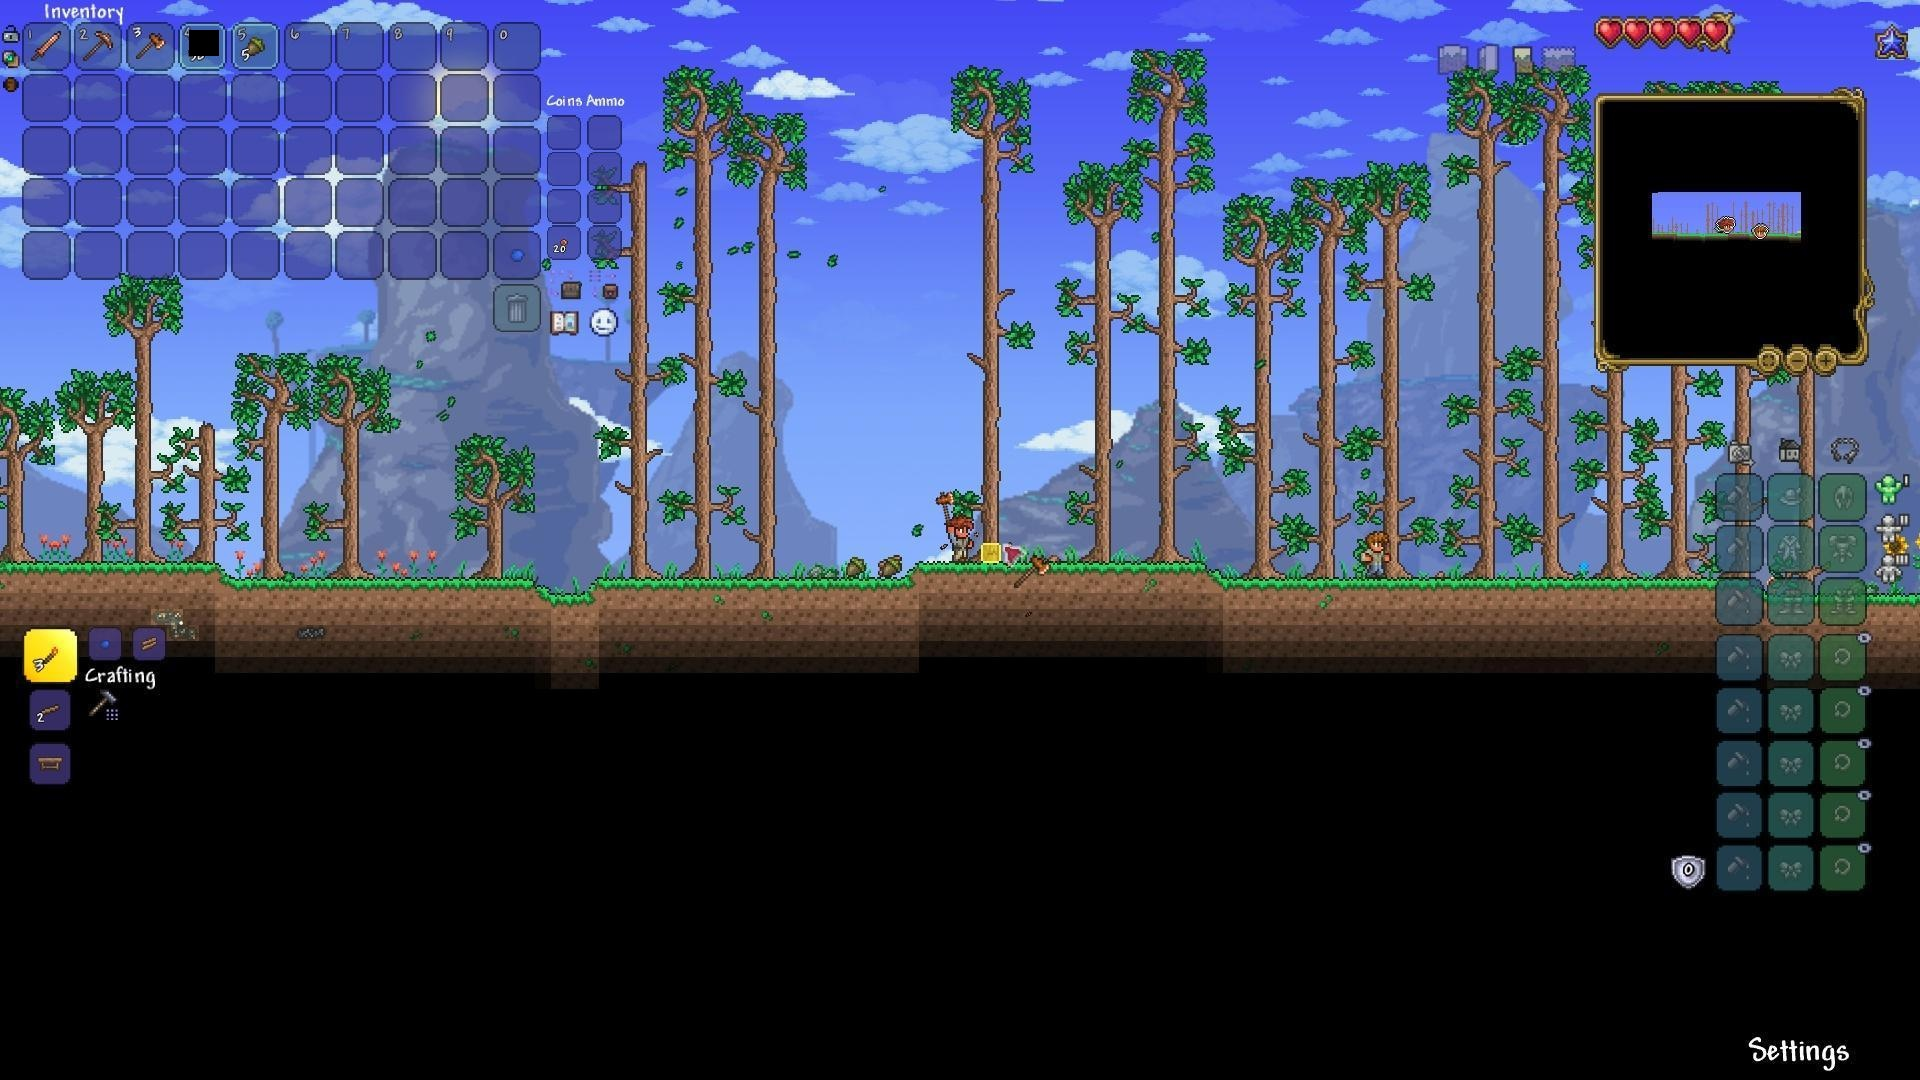wood: (136, 632, 162, 655)
workbench: (34, 752, 66, 775)
